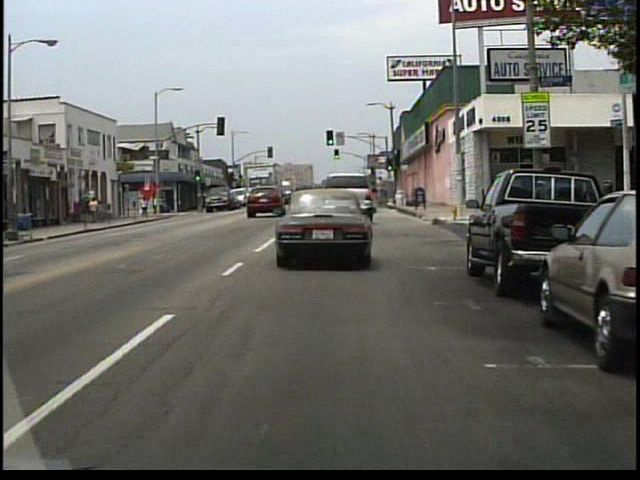person: (91, 197, 101, 224), (99, 200, 107, 224), (141, 197, 150, 218)
